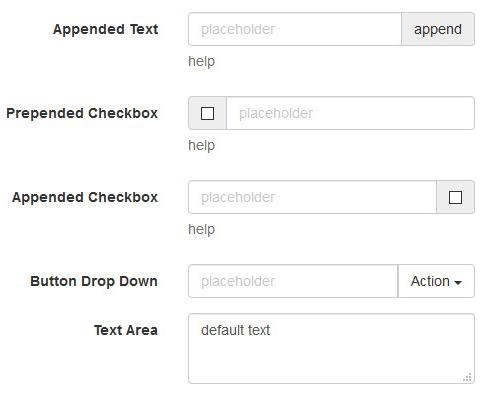checkbox: (198, 96, 223, 125), (447, 185, 465, 207)
checkbox_with_label: (7, 95, 224, 127)
field: (184, 311, 476, 386), (222, 93, 478, 132), (184, 178, 439, 217), (183, 9, 406, 51), (183, 262, 400, 300), (396, 262, 477, 301)
field_with_label: (95, 309, 478, 389), (13, 176, 440, 218), (53, 7, 408, 53), (30, 259, 397, 302)
